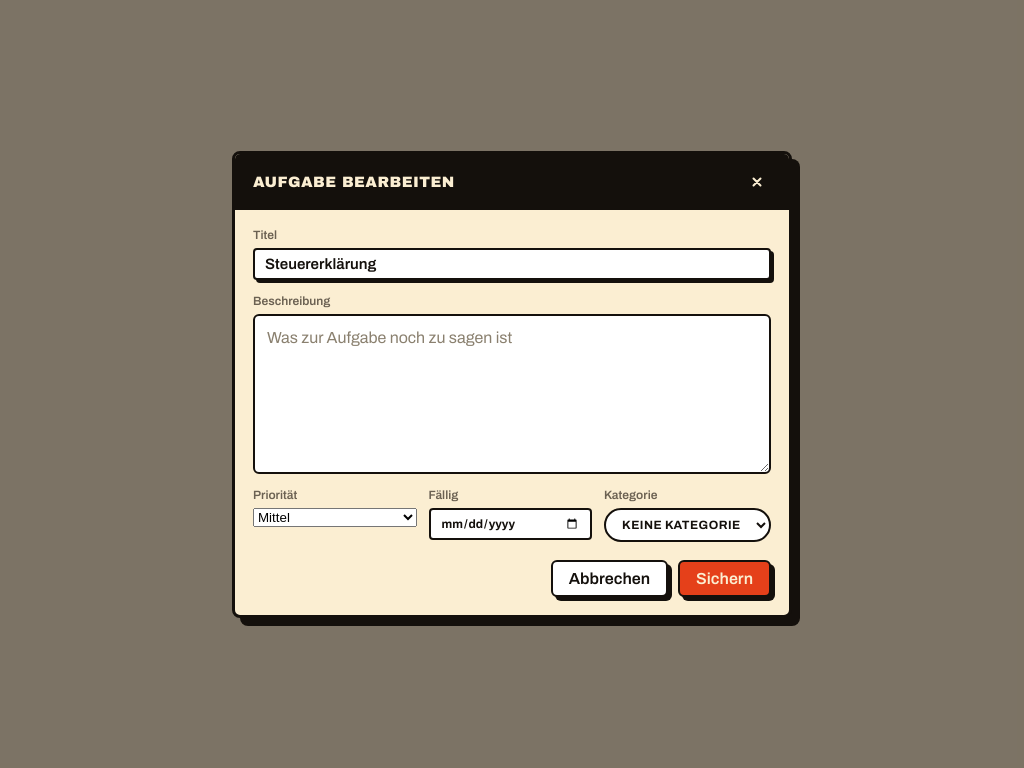
TodoDetailModal › stays open and shows the error when saving fails
The width and height of the screenshot is (1024, 768).
Type "Text" into the text box labelled "Beschreibung".
click(512, 394); type("Text")  # box [253,314,771,474]
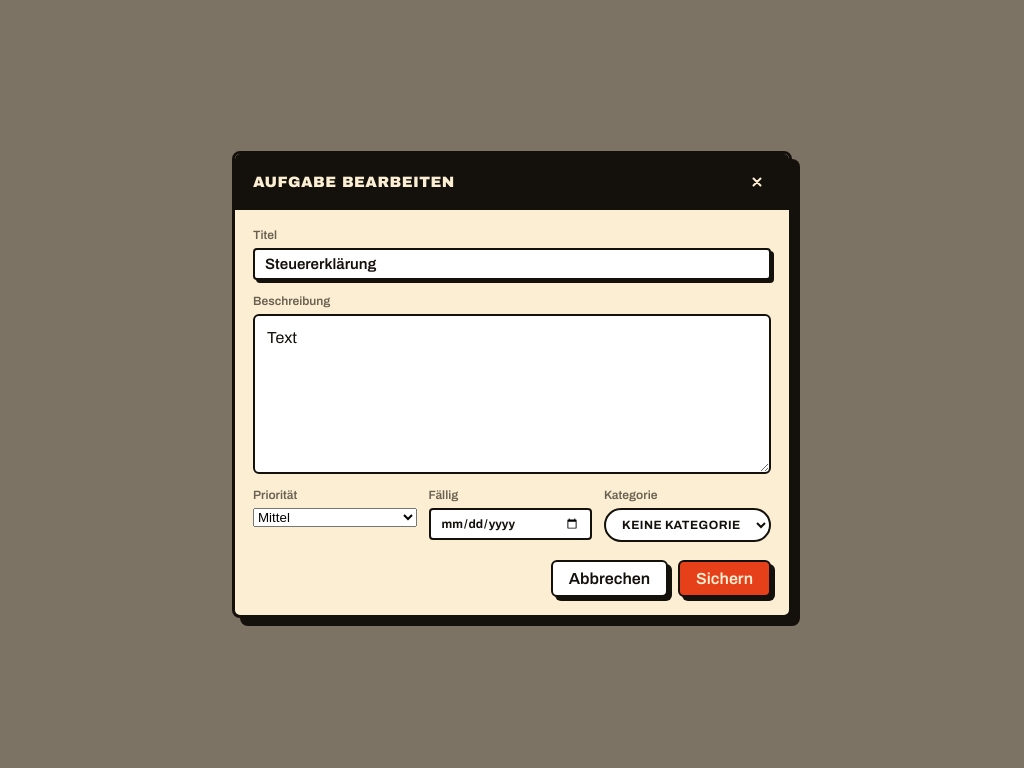
Click the button "Sichern".
click(725, 578)  # box [678,560,771,596]
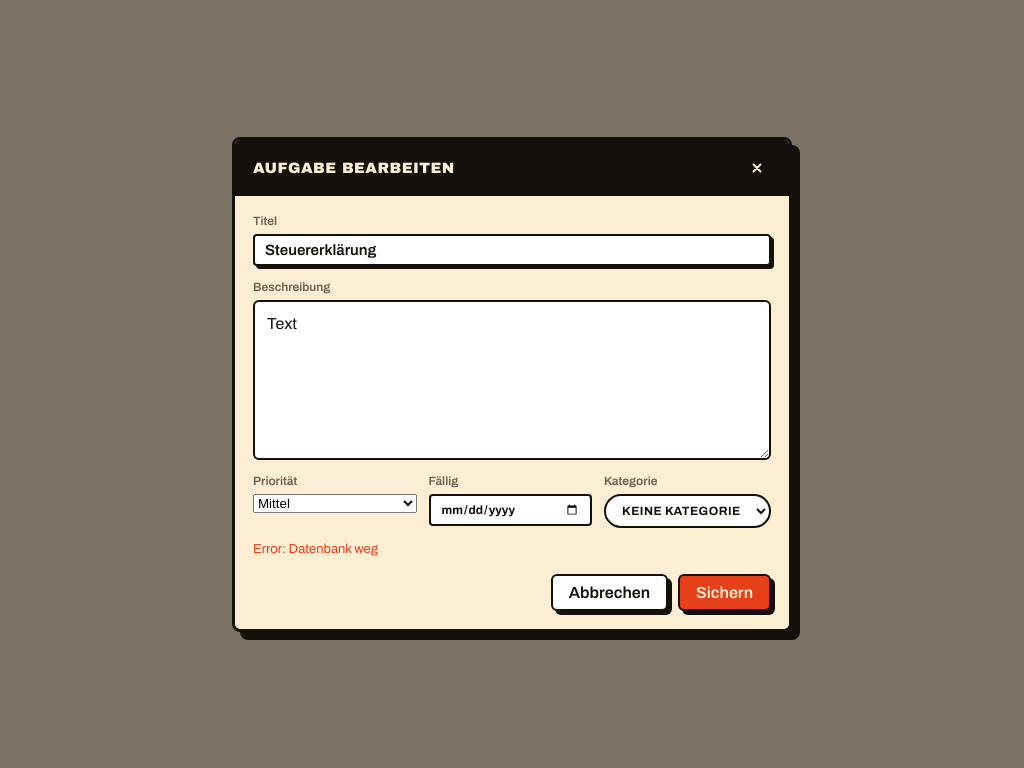
Now the text "Error: Datenbank weg" is shown, box [253,542,378,556]
